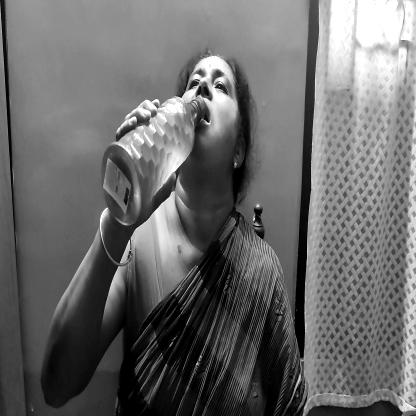Distracted: (190, 58, 240, 165)
